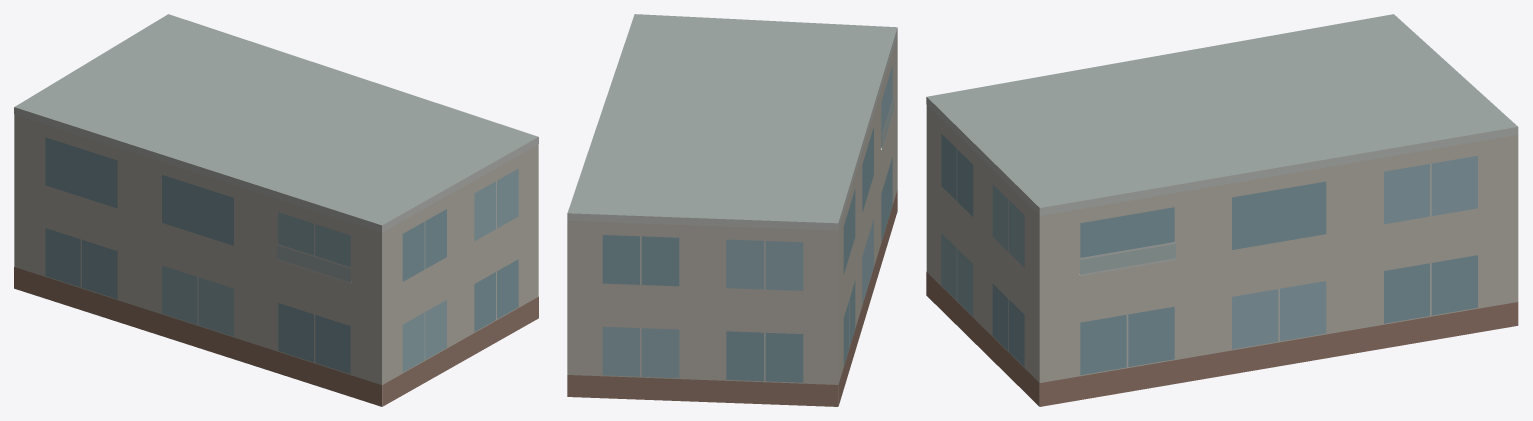
Rendered from survey-upis-32530543.glb.
3 views of the same model, side by side, from view 1: azimuth 30°, elevation 25°; view 2: azimuth 150°, elevation 25°; view 3: azimuth 270°, elevation 25° (orthographic). The views are drawn at different scales.
Visible parts, largest first — view 1: survey-upis-32530543.tmp; view 2: survey-upis-32530543.tmp; view 3: survey-upis-32530543.tmp.
Part boxes in pixels (left/top/right/bottom): survey-upis-32530543.tmp: left=14, top=14, right=538, bottom=406; survey-upis-32530543.tmp: left=567, top=14, right=897, bottom=406; survey-upis-32530543.tmp: left=926, top=14, right=1518, bottom=406.
Size of the model in its own units: 12.78 by 6.1 by 16.47.
